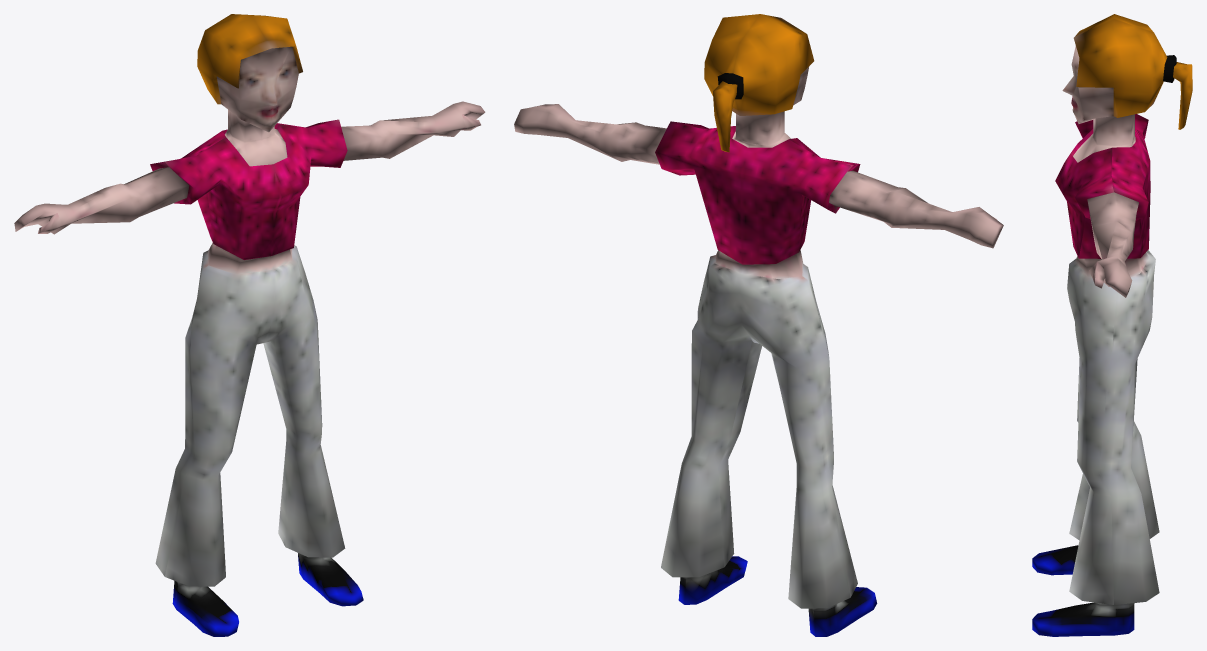
Rendered from npcwoman.fbx.
3 renders of one model, left to right at view 1: azimuth 30°, elevation 25°; view 2: azimuth 150°, elevation 25°; view 3: azimuth 270°, elevation 25°, orthographic. The views are drawn at different scales.
Parts seen in each view (by area): view 1: woma; view 2: woma; view 3: woma.
Part boxes in pixels (x1,y1,x2,y2): woma: (14, 14, 485, 636); woma: (514, 14, 1003, 636); woma: (1032, 14, 1192, 636).
Size of the model in its own units: 176 by 211 by 53.02.
Materials: 1 (1 with a texture image).
